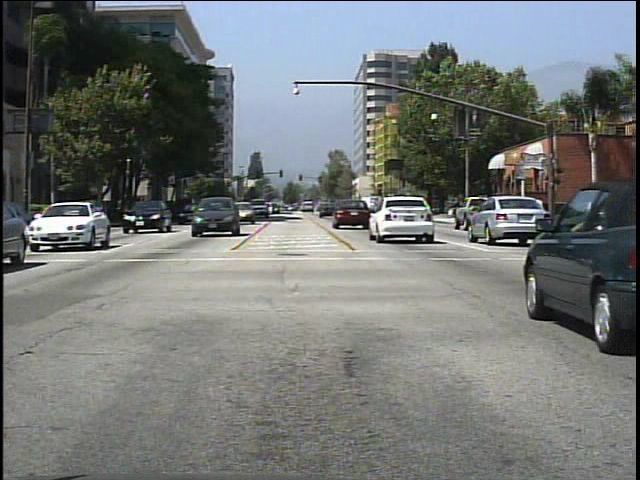person: (527, 194, 546, 229), (492, 189, 510, 224)
